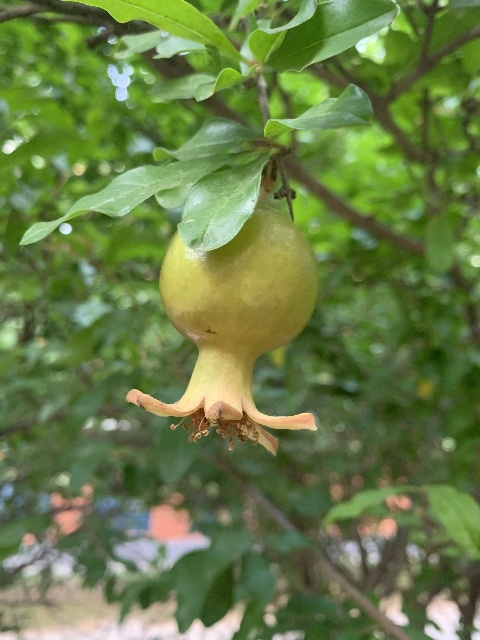mid-growth: (123, 205, 320, 456)
